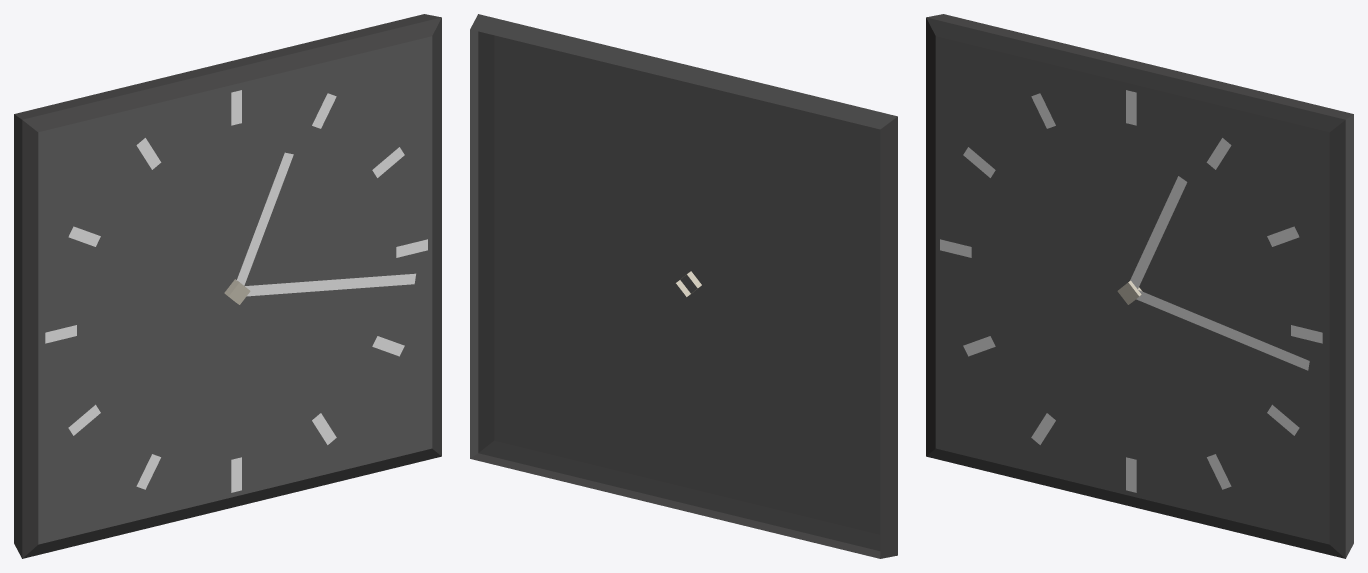
The model's file is Clock.fbx.
The picture shows the model from 3 angles, left to right: view 1: azimuth 30°, elevation 25°; view 2: azimuth 150°, elevation 25°; view 3: azimuth 330°, elevation 25°; orthographic projection.
Visible parts, largest first — view 1: polySurface2339; view 2: polySurface2339; view 3: polySurface2339.
Boxes of the visible parts, <box> form: polySurface2339: <box>14,14,441,558</box>; polySurface2339: <box>470,14,897,558</box>; polySurface2339: <box>926,14,1353,558</box>.
Bounding box in the file's own units: 0.7989 × 0.7989 × 0.0676.
1 material, 1 textured.
